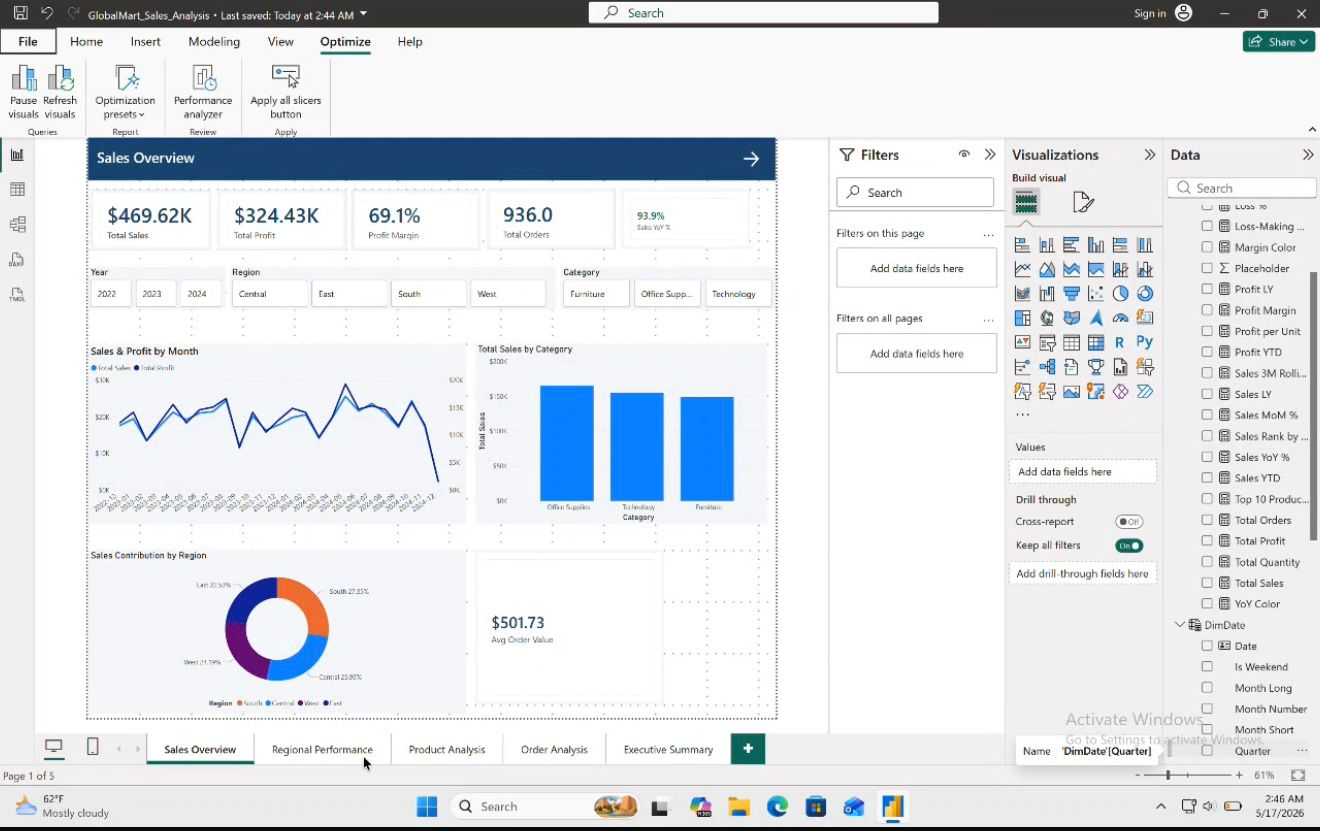

The page's visual inventory and layout, read from the dashboard file:
{"tool":"powerbi","page":{"name":"Sales Overview","canvas":[1280,1080],"ordinal":0},"visuals":[{"type":"shape","box":[0,0,1280,80],"z":0,"group":"g1"},{"type":"cardVisual","fields":{"Data":["_Measures.Total Sales"]},"box":[5.7,96.8,224,112],"z":0},{"type":"textbox","box":[12,13,211,54],"z":1000,"group":"g1"},{"type":"cardVisual","fields":{"Data":["_Measures.Total Profit"]},"box":[240.2,96.8,240,112],"z":1000},{"type":"cardVisual","fields":{"Data":["_Measures.Profit Margin"]},"box":[490.8,96.8,240,112],"z":2000},{"type":"cardVisual","fields":{"Data":["_Measures.Total Orders"]},"box":[741.4,96,240,112],"z":3000},{"type":"cardVisual","fields":{"Data":["_Measures.Sales YoY %"]},"box":[992,96,240,112],"z":4000},{"type":"lineChart","title":"Sales & Profit by Month","fields":{"Category":["DimDate.YearMonth"],"Y":["_Measures.Total Sales"],"Y2":["_Measures.Total Profit"]},"box":[0,384,704,336],"z":5000},{"type":"clusteredColumnChart","fields":{"Category":["Sales.Category"],"Y":["_Measures.Total Sales"]},"box":[720,384,544,336],"z":6000},{"type":"donutChart","title":"Sales Contribution by Region","fields":{"Category":["Sales.Region"],"Y":["_Measures.Total Sales"]},"box":[0,768,704,304],"z":7000},{"type":"cardVisual","fields":{"Data":["_Measures.Avg Order Value"]},"box":[720,768,352,288],"z":8000},{"type":"advancedSlicerVisual","fields":{"Values":["Sales.Region"]},"box":[264,240,608,80],"z":9000},{"type":"advancedSlicerVisual","fields":{"Values":["DimDate.Year"]},"box":[0,240,256,80],"z":10000},{"type":"advancedSlicerVisual","fields":{"Values":["Sales.Category"]},"box":[880,240,400,80],"z":11000},{"type":"group","id":"g1","title":"Group 1","box":[0,0,1280,80],"z":12000},{"type":"actionButton","box":[1216,16,48,48],"z":12001,"group":"g1"}]}

Visuals, with their boxes on the page's 1280x1080 design canvas (x1, y1, x2, y2). These are canvas units, not pixel positions in the 1320x831 screenshot, which may show the page scaled, cropped or inside an application window:
shape: bbox(0, 0, 1280, 80)
cardVisual - _Measures.Total Sales: bbox(6, 97, 230, 209)
textbox: bbox(12, 13, 223, 67)
cardVisual - _Measures.Total Profit: bbox(240, 97, 480, 209)
cardVisual - _Measures.Profit Margin: bbox(491, 97, 731, 209)
cardVisual - _Measures.Total Orders: bbox(741, 96, 981, 208)
cardVisual - _Measures.Sales YoY %: bbox(992, 96, 1232, 208)
"Sales & Profit by Month" lineChart: bbox(0, 384, 704, 720)
clusteredColumnChart - Sales.Category x _Measures.Total Sales: bbox(720, 384, 1264, 720)
"Sales Contribution by Region" donutChart: bbox(0, 768, 704, 1072)
cardVisual - _Measures.Avg Order Value: bbox(720, 768, 1072, 1056)
advancedSlicerVisual - Sales.Region: bbox(264, 240, 872, 320)
advancedSlicerVisual - DimDate.Year: bbox(0, 240, 256, 320)
advancedSlicerVisual - Sales.Category: bbox(880, 240, 1280, 320)
"Group 1" group: bbox(0, 0, 1280, 80)
actionButton: bbox(1216, 16, 1264, 64)
